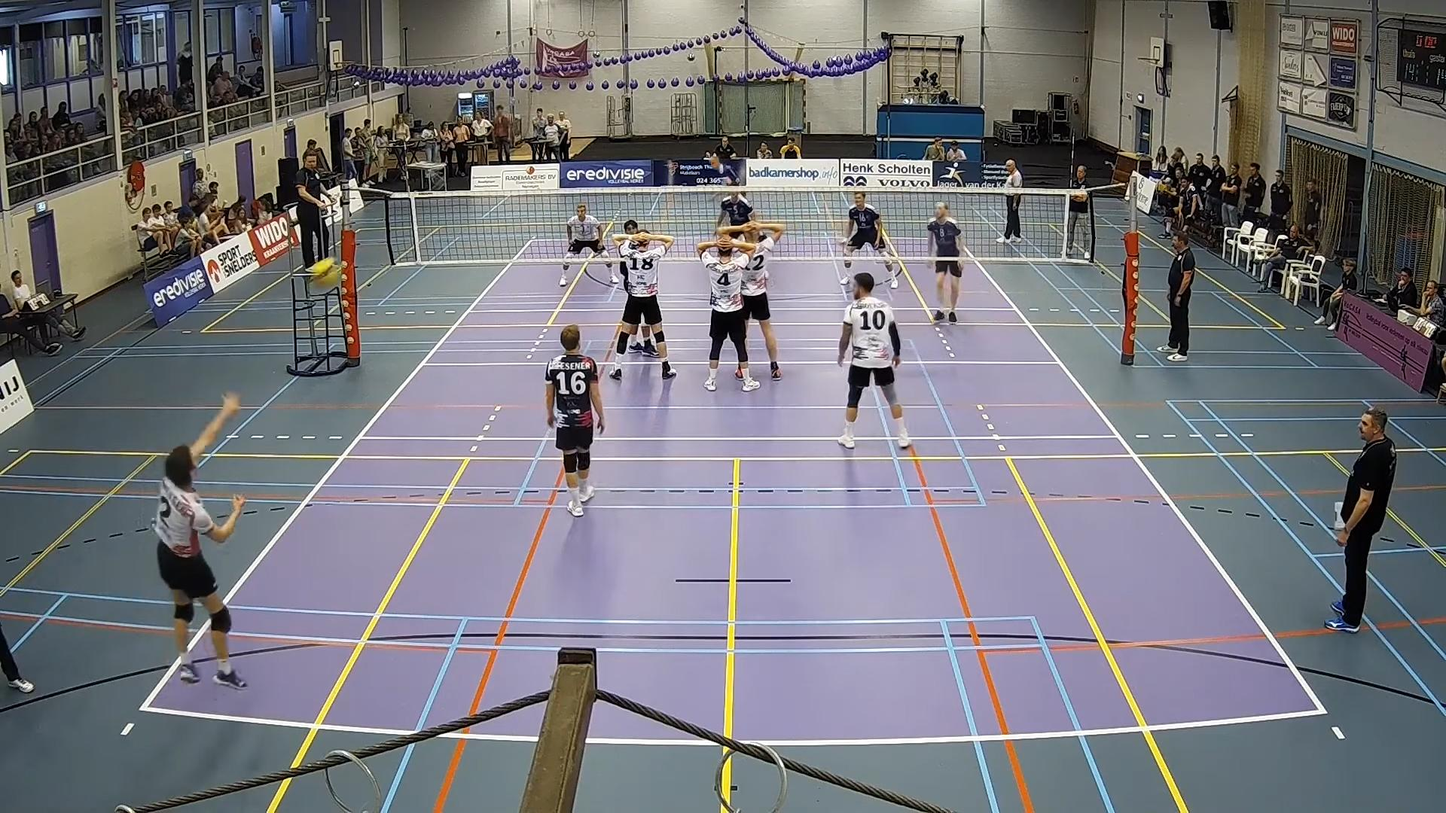Player: (837, 273, 911, 448), (545, 324, 604, 516), (609, 220, 676, 379), (718, 222, 785, 379), (697, 236, 760, 391), (844, 191, 897, 288), (560, 203, 618, 286), (926, 202, 961, 322), (718, 192, 754, 227), (629, 324, 657, 357)
Serve: (154, 397, 251, 690)
ball: (309, 261, 342, 281)
